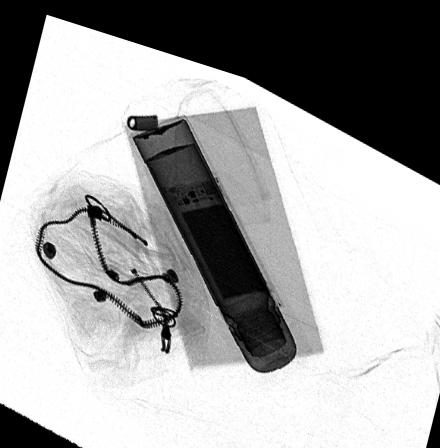Powerbank: (162, 160, 285, 305)
